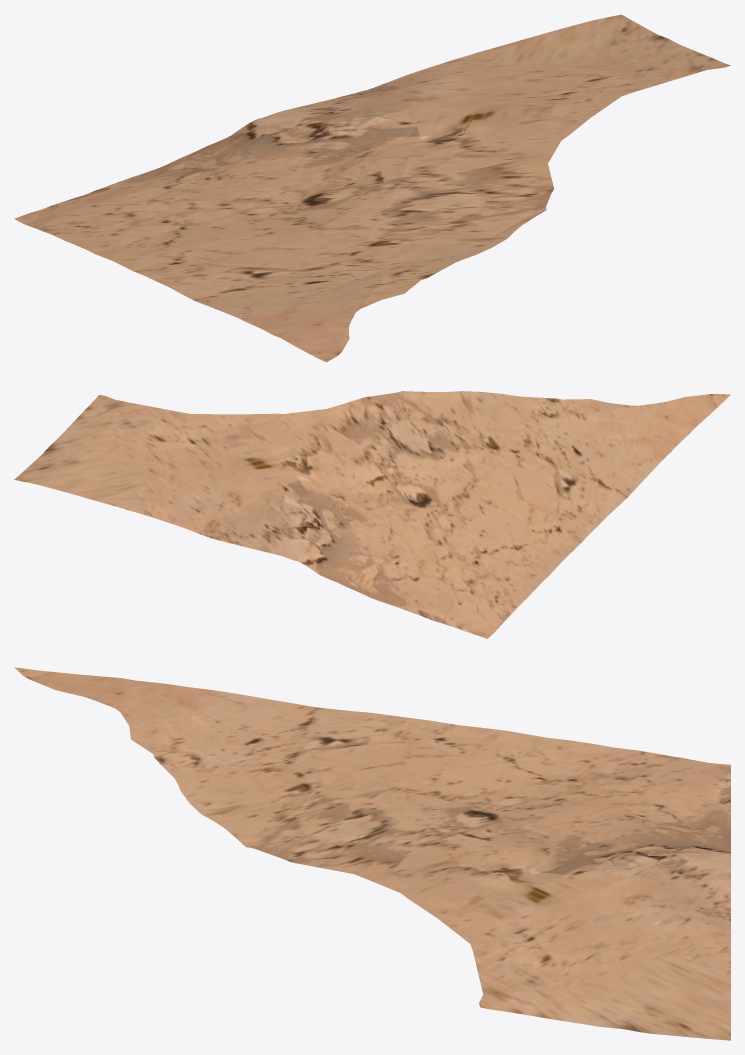
The picture shows the model from 3 angles, top to bottom: view 1: azimuth 30°, elevation 25°; view 2: azimuth 150°, elevation 25°; view 3: azimuth 270°, elevation 25°; orthographic projection. The views are drawn at different scales.
Bounding box in the file's own units: 2.09 × 0.2792 × 1.86.
2 materials, 2 textured.
